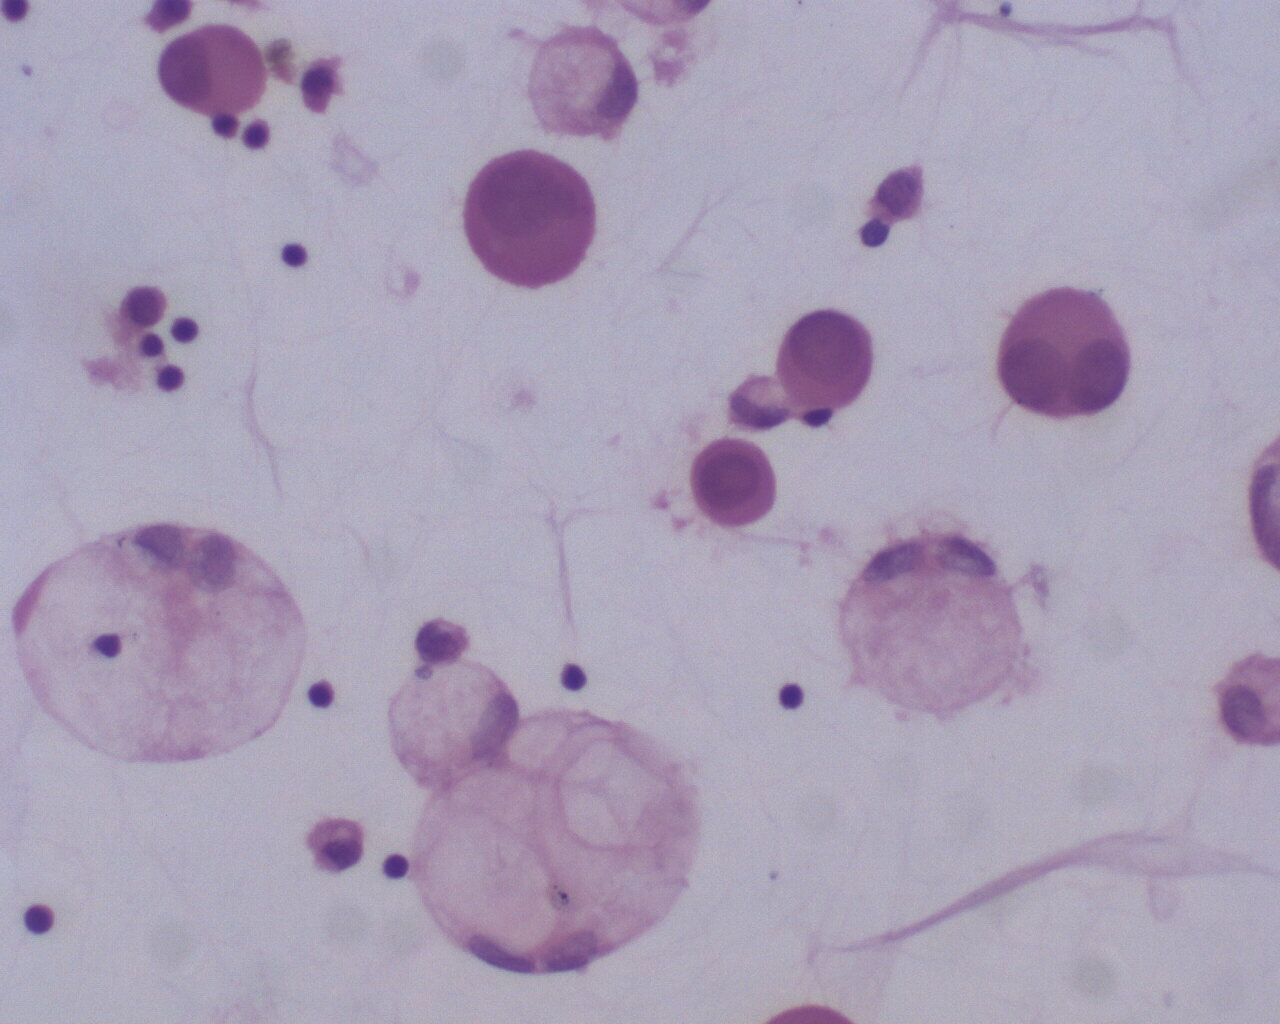ab: (411, 709, 701, 976), (459, 145, 602, 288), (993, 280, 1135, 422), (154, 25, 274, 117), (775, 307, 879, 411), (686, 432, 784, 531)
histo: (8, 522, 313, 774), (842, 530, 1026, 720), (386, 658, 519, 787), (528, 27, 639, 137)
lymph: (768, 674, 813, 712), (21, 903, 63, 942), (275, 237, 312, 270)
